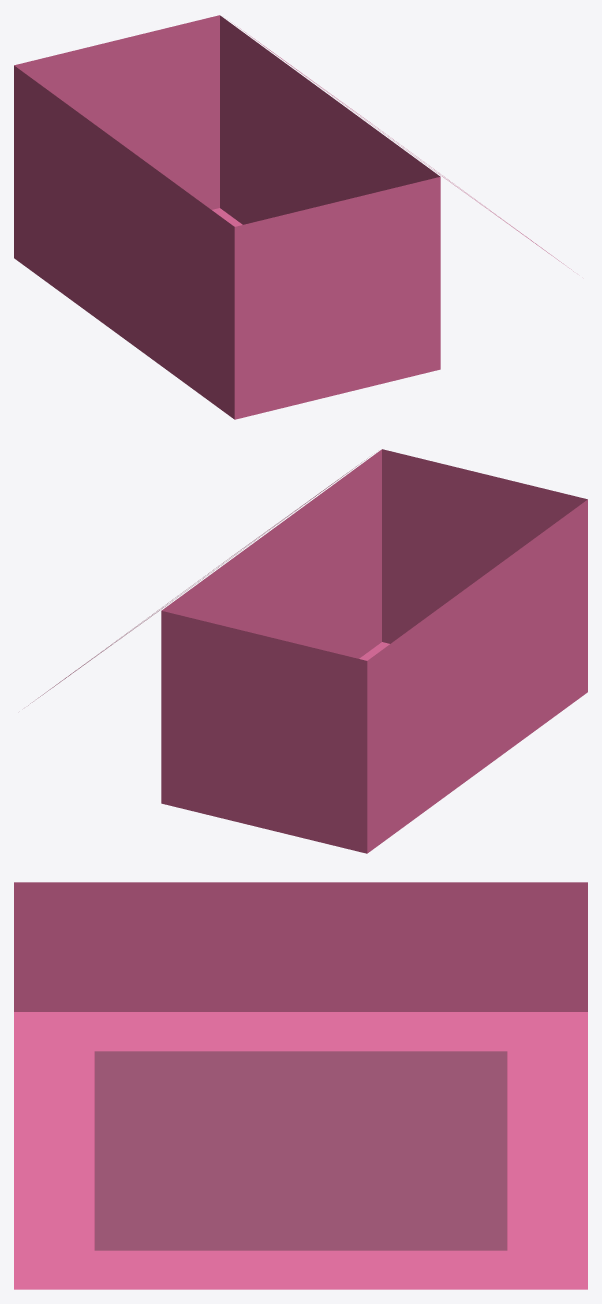
The model's file is donut_box.gltf.
3 renders of one model, top to bottom at view 1: azimuth 30°, elevation 25°; view 2: azimuth 150°, elevation 25°; view 3: azimuth 270°, elevation 25°, orthographic. The views are drawn at different scales.
Visible parts, largest first — view 1: Plane.001; view 2: Plane.001; view 3: Plane.001.
Boxes of the visible parts, bbox=[...] form: Plane.001: bbox=[14, 15, 573, 419]; Plane.001: bbox=[28, 449, 587, 853]; Plane.001: bbox=[14, 882, 587, 1289].
Size of the model in its own units: 1.85 by 0.968 by 2.
